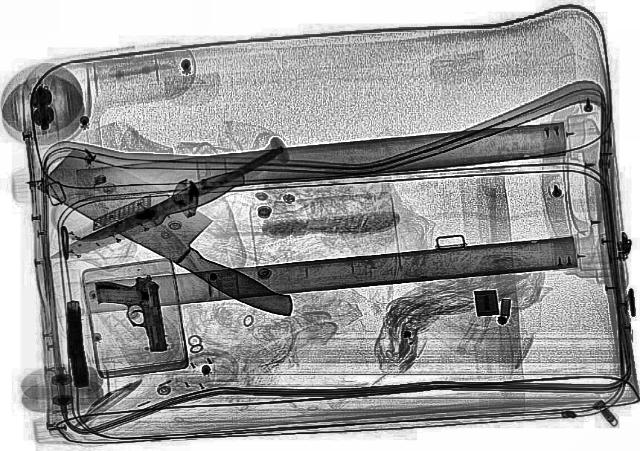Gun: (92, 274, 168, 356), (61, 301, 88, 387)
Knife: (18, 143, 334, 322), (42, 166, 254, 266), (78, 146, 288, 246)
